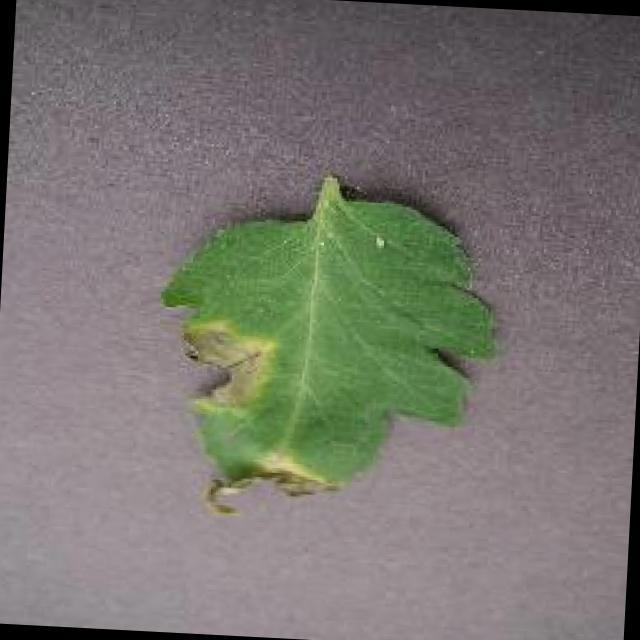Tomato late blight leaf: (156, 188, 506, 528)
